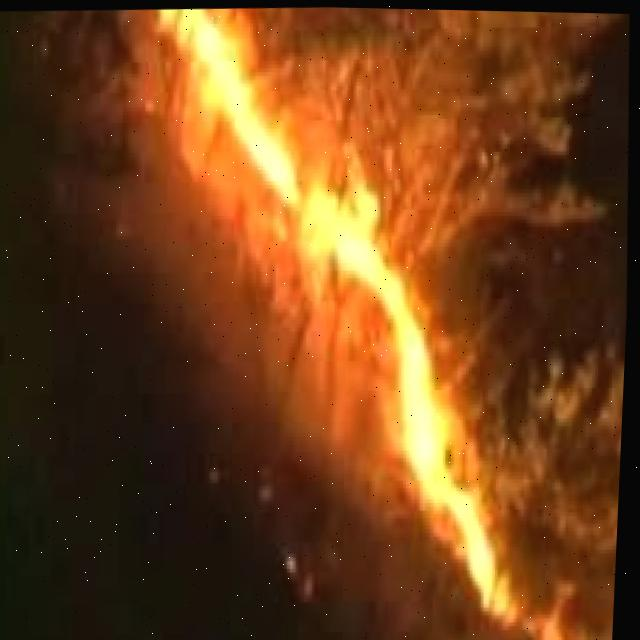fire: (131, 7, 573, 640)
